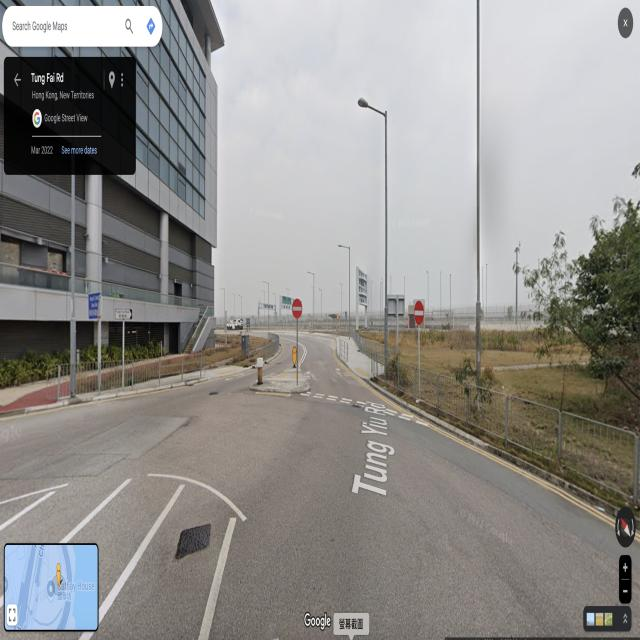Direction-Sign: (89, 296, 101, 318)
Order-Sign: (415, 302, 424, 325), (293, 299, 302, 318)
Street-Direction-Sign: (116, 309, 132, 319)
